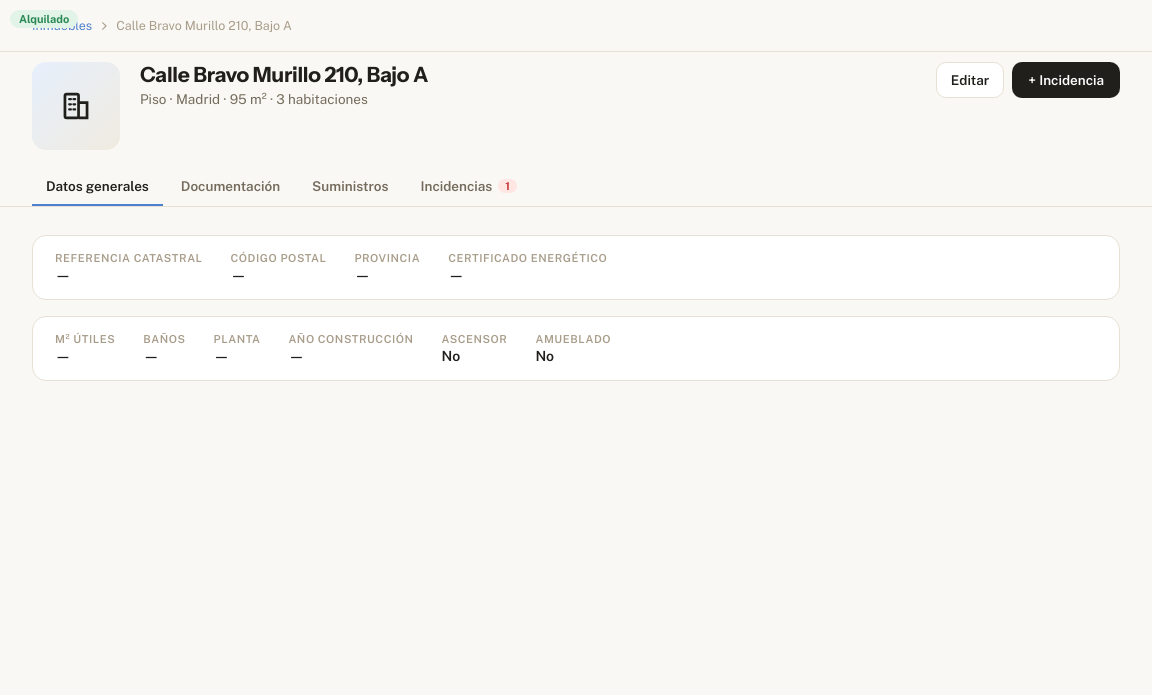
InmueblesFicha — Incidencias › el contador baja al cerrar una incidencia, sin recargar
Click the button "Incidencias 1": (469, 187) [406,168,531,206]
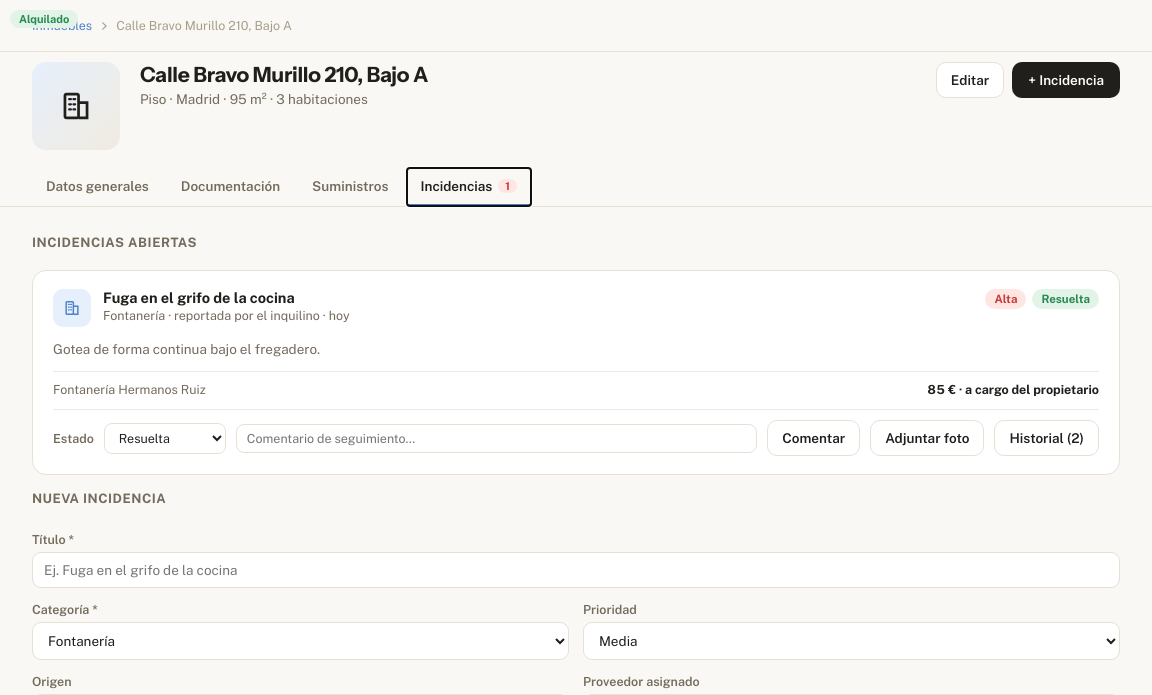
Select "→ Cerrada" in the dropdown named "estado de fuga en el grifo": (165, 438) [104,423,226,454]
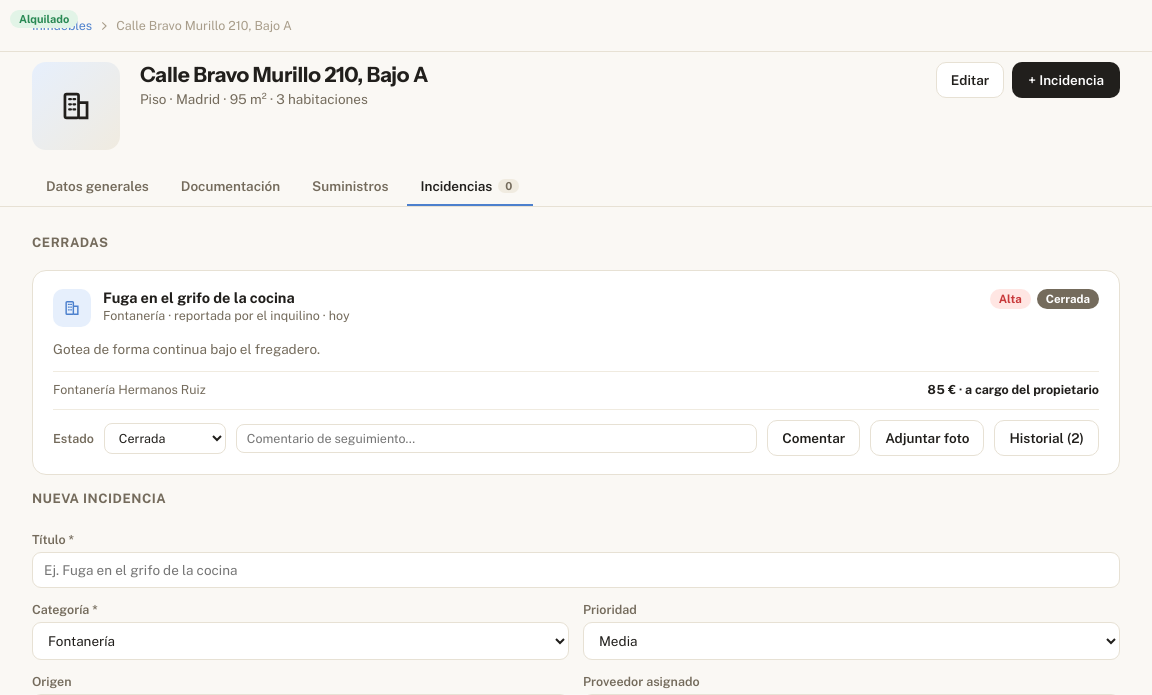
Expected: the button "Incidencias 0" is shown, [406,168,533,206]
